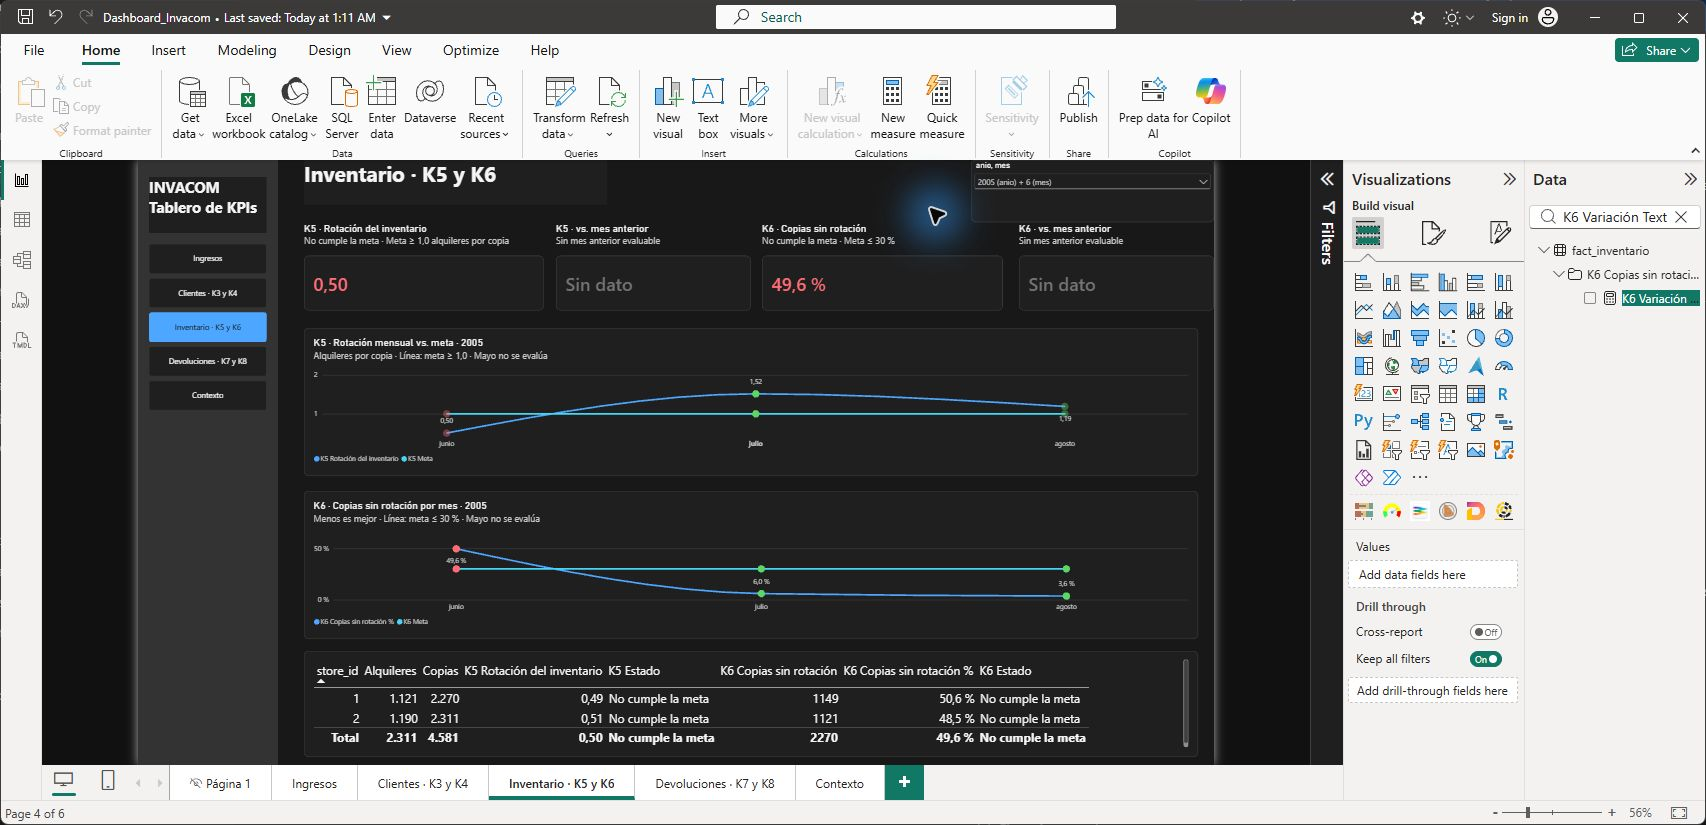

The dashboard page shown, as its layout file describes it:
{"tool":"powerbi","page":{"name":"Inventario · K5 y K6","canvas":[1920,1080],"ordinal":3},"visuals":[{"type":"shape","box":[0,0,250,1080],"z":0},{"type":"pageNavigator","box":[20,150,210,300],"z":1},{"type":"textbox","box":[20,30,210,100],"z":2},{"type":"tableEx","fields":{"Values":["dim_tienda.store_id","fact_alquiler.Alquileres","fact_inventario.Copias","fact_alquiler.K5 Rotación del inventario","fact_alquiler.K5 Estado","fact_inventario.K6 Copias sin rotación","fact_inventario.K6 Copias sin rotación %","fact_inventario.K6 Estado"]},"box":[296.3,855.1,1595.9,189.2],"z":3},{"type":"slicer","fields":{"Values":["dim_fecha.anio","dim_fecha.mes"]},"box":[1487,0,433.8,110.7],"z":4},{"type":"cardVisual","title":"K5 · Rotación del inventario","fields":{"Data":["fact_alquiler.K5 Texto"]},"box":[296.3,110.7,785.5,230.3],"z":5},{"type":"cardVisual","title":"K6 · Copias sin rotación","fields":{"Data":["fact_inventario.K6 Texto"]},"box":[1113.9,110.7,778.3,230.3],"z":6},{"type":"textbox","box":[296.3,0,540.9,80.3],"z":7},{"type":"lineClusteredColumnComboChart","title":"K5 · Rotación mensual vs. meta · 2005","fields":{"Category":["dim_fecha.nombre_mes"],"Y":["fact_alquiler.K5 Rotación del inventario"],"Y2":["fact_alquiler.K5 Meta"]},"box":[296.3,376.7,785.5,453.4],"z":8},{"type":"lineClusteredColumnComboChart","title":"K6 · Copias sin rotación por mes · 2005","fields":{"Category":["dim_fecha.nombre_mes"],"Y":["fact_inventario.K6 Copias sin rotación %"],"Y2":["fact_inventario.K6 Meta"]},"box":[1113.9,376.7,785.5,453.4],"z":9}]}

Visuals, with their boxes on the page's 1920x1080 design canvas (x1, y1, x2, y2). These are canvas units, not pixel positions in the 1706x825 screenshot, which may show the page scaled, cropped or inside an application window:
shape: [0, 0, 250, 1080]
pageNavigator: [20, 150, 230, 450]
textbox: [20, 30, 230, 130]
tableEx - dim_tienda.store_id x fact_alquiler.Alquileres: [296, 855, 1892, 1044]
slicer - dim_fecha.anio x dim_fecha.mes: [1487, 0, 1921, 111]
"K5 · Rotación del inventario" cardVisual: [296, 111, 1082, 341]
"K6 · Copias sin rotación" cardVisual: [1114, 111, 1892, 341]
textbox: [296, 0, 837, 80]
"K5 · Rotación mensual vs. meta · 2005" lineClusteredColumnComboChart: [296, 377, 1082, 830]
"K6 · Copias sin rotación por mes · 2005" lineClusteredColumnComboChart: [1114, 377, 1899, 830]
